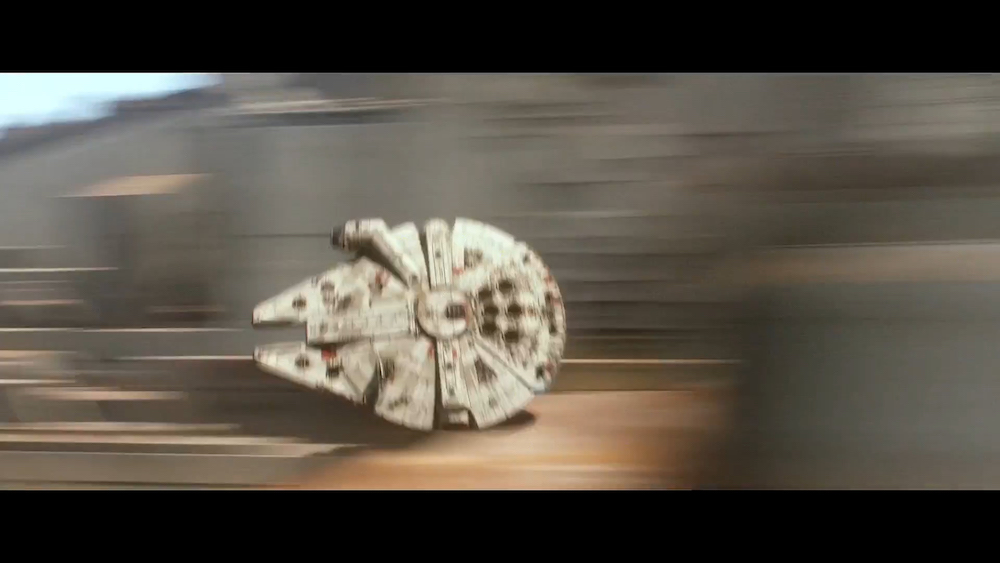Millennium Falcon: (252, 217, 568, 433)
